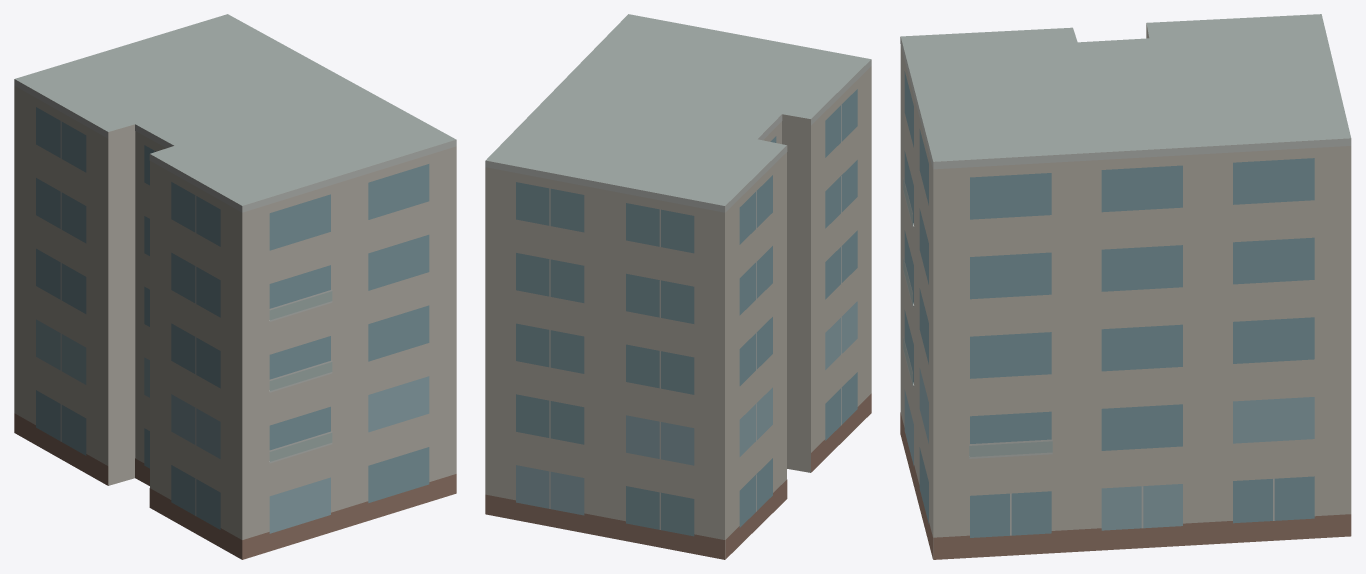
File: survey-upis-33007592.glb
3 views of the same model, side by side, from view 1: azimuth 30°, elevation 25°; view 2: azimuth 150°, elevation 25°; view 3: azimuth 270°, elevation 25° (orthographic). The views are drawn at different scales.
Parts seen in each view (by area): view 1: survey-upis-33007592.tmp; view 2: survey-upis-33007592.tmp; view 3: survey-upis-33007592.tmp.
Part boxes in pixels (bbox=[...]): survey-upis-33007592.tmp: bbox=[14, 14, 456, 559]; survey-upis-33007592.tmp: bbox=[485, 14, 871, 559]; survey-upis-33007592.tmp: bbox=[900, 14, 1351, 559].
Bounding box in the file's own units: 10.29 × 12.9 × 13.25.
